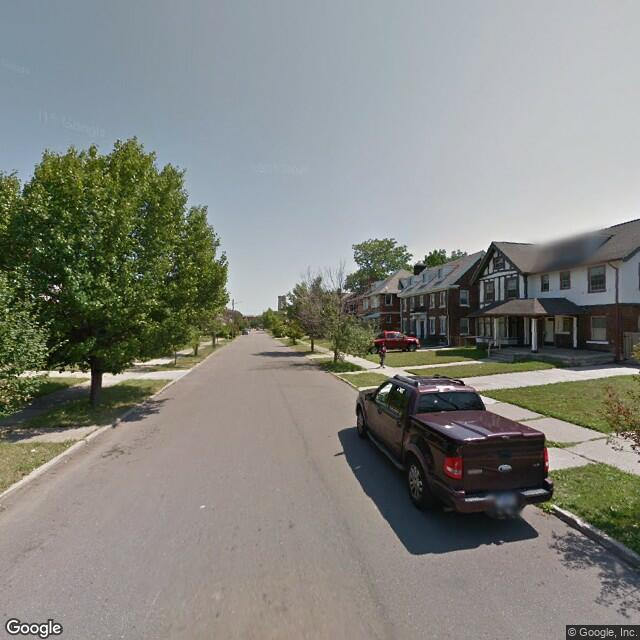litter: (30, 448, 37, 454)
